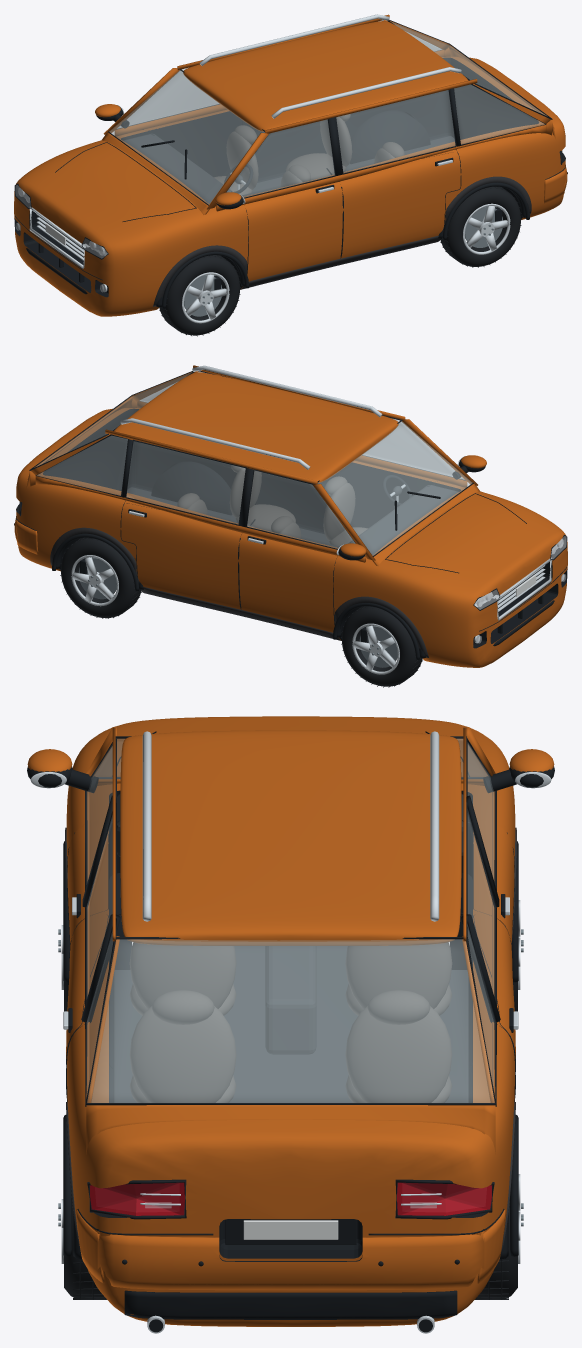
The model's file is generic-compact-suv.glb.
3 views of the same model, one above another, from view 1: azimuth 30°, elevation 25°; view 2: azimuth 150°, elevation 25°; view 3: azimuth 270°, elevation 25° (orthographic). The views are drawn at different scales.
Parts seen in each view (by area): view 1: Original compact_suv fourteen-section body shell, Crowned roof pressing, Raked transparent windscreen, Separate closed door panel.001, Separate closed door panel, Rear door transparent glass, Front door transparent glass, Separate closed door panel.002, Original tyre carcass and shaped sidewalls, Original tyre carcass and shaped sidewalls.002, Extended rear quarter glazing, Wheelhouse arched liner.003 (+30 smaller); view 2: Original compact_suv fourteen-section body shell, Crowned roof pressing, Raked transparent windscreen, Separate closed door panel.003, Separate closed door panel.002, Rear door transparent glass.001, Front door transparent glass.001, Separate closed door panel, Original tyre carcass and shaped sidewalls.001, Original tyre carcass and shaped sidewalls.003, Extended rear quarter glazing.001, Wheelhouse arched liner.002 (+32 smaller); view 3: Crowned roof pressing, Original compact_suv fourteen-section body shell, Rear transparent hatch glass, Interior carpet, Formed painted rear bumper cover, Sculpted rear lower bumper insert, Contoured seat back.002, Contoured seat back.003, Painted rear glass sill, Center console, Contoured seat back, Contoured seat back.001 (+37 smaller).
Boxes of the visible parts, <box> form: Original compact_suv fourteen-section body shell: <box>14,56,565,316</box>; Crowned roof pressing: <box>183,21,468,131</box>; Raked transparent windscreen: <box>109,70,264,204</box>; Separate closed door panel.001: <box>340,152,460,258</box>; Separate closed door panel: <box>244,175,342,281</box>; Rear door transparent glass: <box>336,90,455,172</box>; Front door transparent glass: <box>227,119,334,197</box>; Separate closed door panel.002: <box>143,109,241,176</box>; Original tyre carcass and shaped sidewalls: <box>159,255,239,335</box>; Original tyre carcass and shaped sidewalls.002: <box>440,186,520,266</box>; Extended rear quarter glazing: <box>454,84,544,144</box>; Wheelhouse arched liner.003: <box>350,110,430,163</box>; Original compact_suv fourteen-section body shell: <box>16,408,567,667</box>; Crowned roof pressing: <box>114,372,398,482</box>; Raked transparent windscreen: <box>317,421,472,555</box>; Separate closed door panel.003: <box>121,503,242,609</box>; Separate closed door panel.002: <box>239,527,337,632</box>; Rear door transparent glass.001: <box>126,441,245,524</box>; Front door transparent glass.001: <box>247,470,355,548</box>; Separate closed door panel: <box>340,460,438,528</box>; Original tyre carcass and shaped sidewalls.001: <box>342,606,422,686</box>; Original tyre carcass and shaped sidewalls.003: <box>61,537,141,618</box>; Extended rear quarter glazing.001: <box>37,435,127,495</box>; Wheelhouse arched liner.002: <box>151,461,232,515</box>; Crowned roof pressing: <box>120,730,461,945</box>; Original compact_suv fourteen-section body shell: <box>66,716,515,1326</box>; Rear transparent hatch glass: <box>87,939,494,1102</box>; Interior carpet: <box>113,946,468,1102</box>; Formed painted rear bumper cover: <box>97,1231,484,1290</box>; Sculpted rear lower bumper insert: <box>124,1290,457,1319</box>; Contoured seat back.002: <box>129,1006,236,1102</box>; Contoured seat back.003: <box>345,1006,452,1102</box>; Painted rear glass sill: <box>86,1105,495,1154</box>; Center console: <box>265,946,316,1054</box>; Contoured seat back: <box>129,942,236,1008</box>; Contoured seat back.001: <box>345,942,452,1008</box>.
Size of the model in its own units: 4.49 by 1.73 by 2.17.
12 materials, 12 textured.
